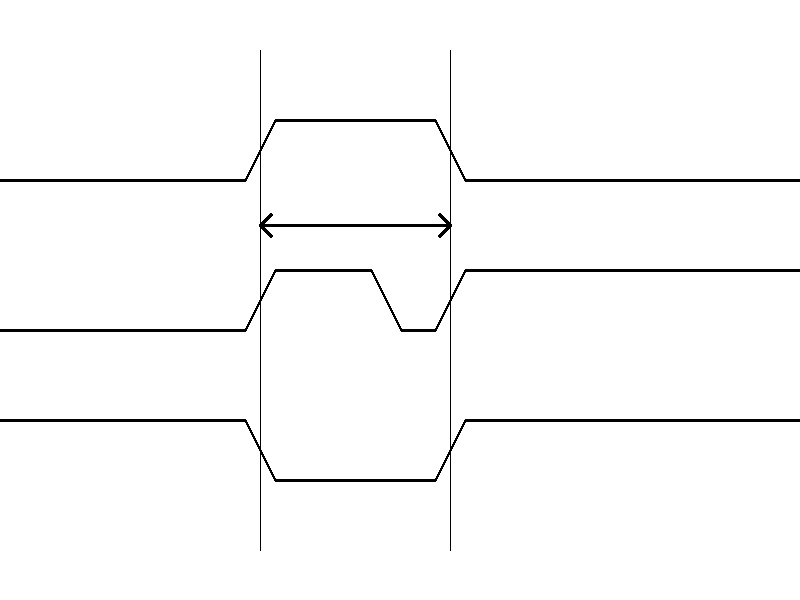double_arrow: (260, 210, 450, 240)
